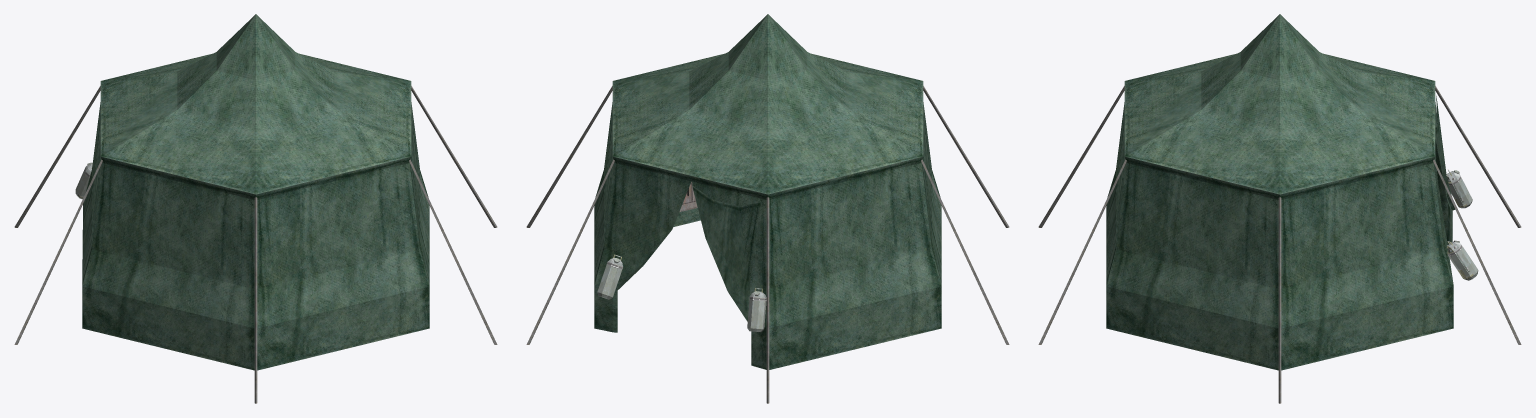
Rendered from poi_nboo_tent_hut_s01_l0.fbx.
3 renders of one model, left to right at view 1: azimuth 30°, elevation 25°; view 2: azimuth 150°, elevation 25°; view 3: azimuth 270°, elevation 25°, orthographic.
Visible parts, largest first — view 1: mesh_node; view 2: mesh_node; view 3: mesh_node.
Boxes of the visible parts, x1,y1,x2,y2 form: mesh_node: (14,14,497,403); mesh_node: (526,14,1009,403); mesh_node: (1038,14,1521,403).
Bounding box in the file's own units: 11.99 × 6.45 × 10.38.
